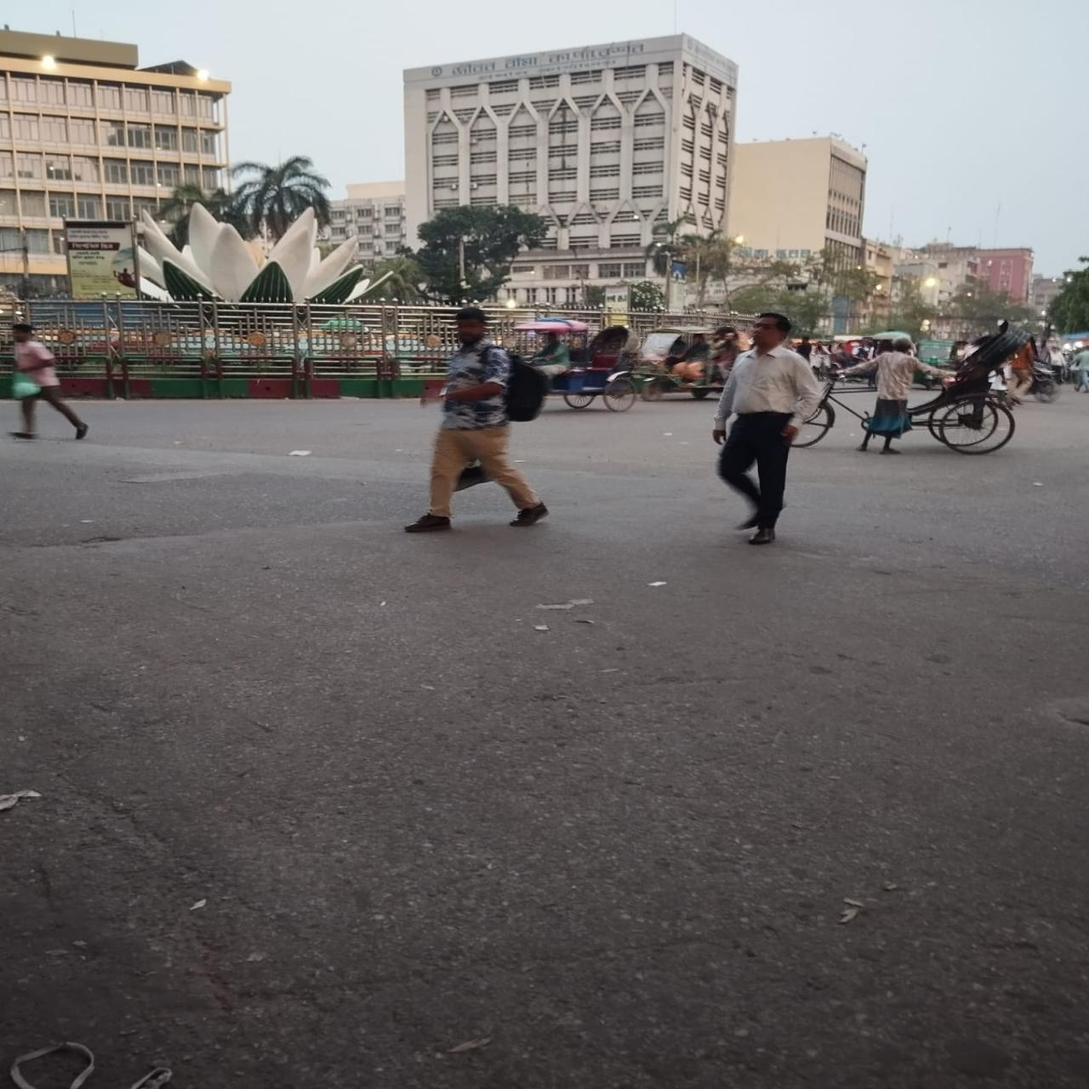person: (403, 309, 557, 537), (712, 310, 822, 548), (7, 321, 89, 445), (1006, 339, 1038, 408)
